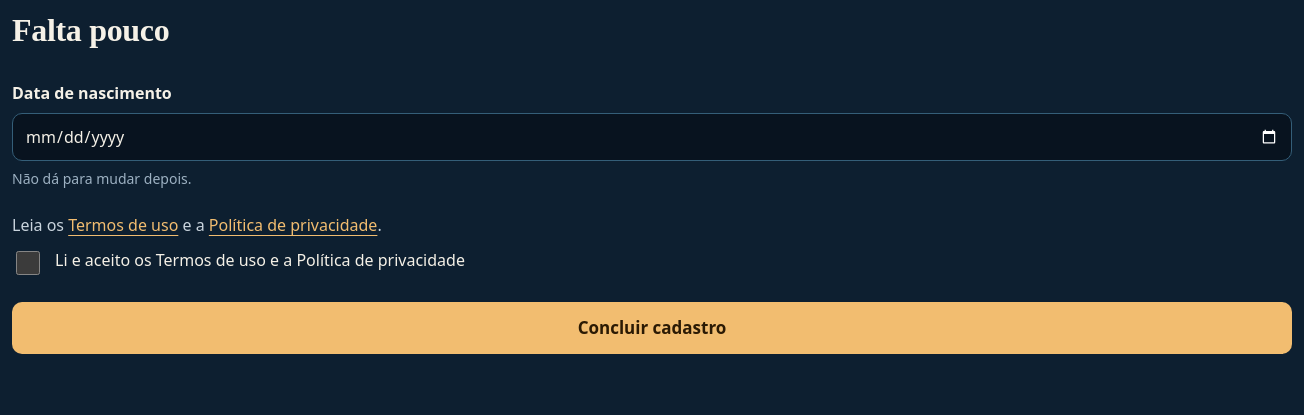
Scenario: Cadastro › semAceiteNaoEnvia
The width and height of the screenshot is (1304, 415).
Type "2000-01-31" into the date field labelled "Data de nascimento".
click(652, 137); type("2000-01-31")  # box 12,113 -> 1292,161
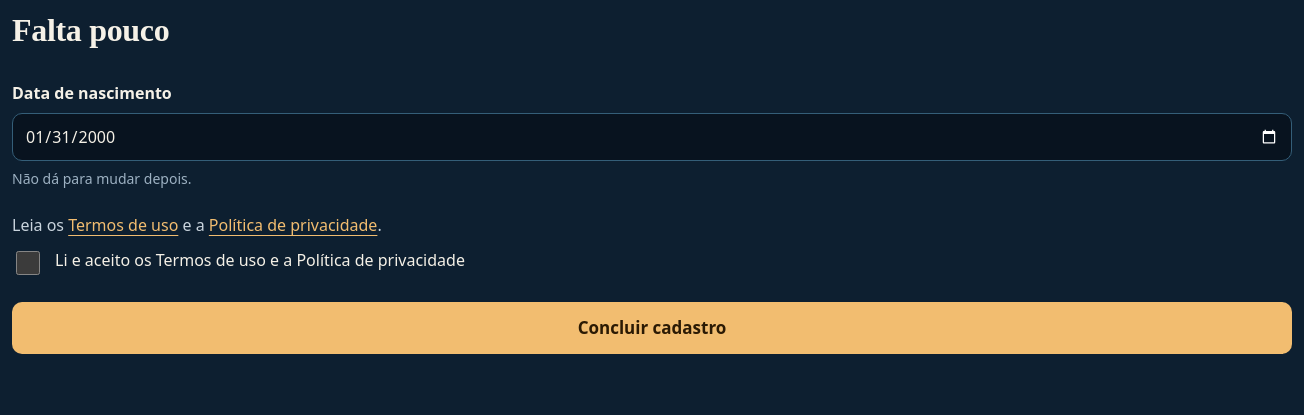
Click the button "Concluir cadastro".
click(652, 328)  # box 12,302 -> 1292,354
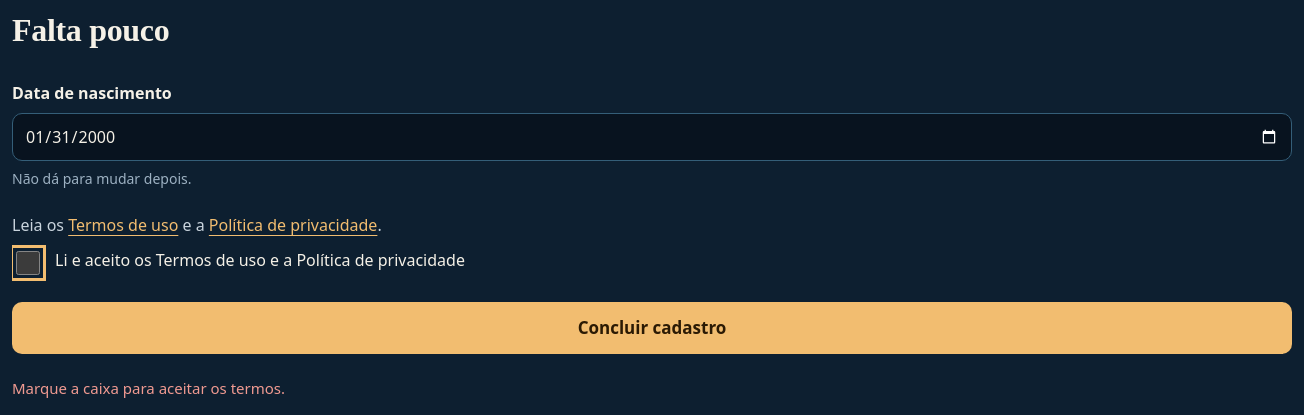
Expected: the message reads "Marque a caixa para aceitar os termos.", 12,378 -> 285,398
